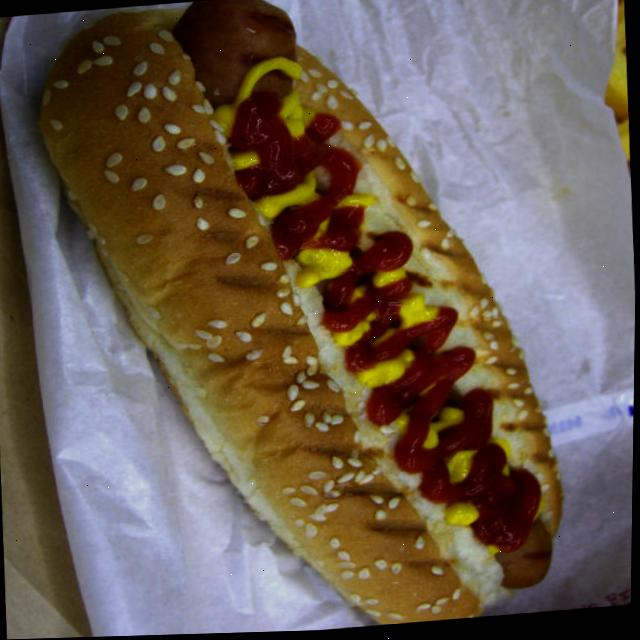汉堡快餐: (4, 0, 600, 640)
